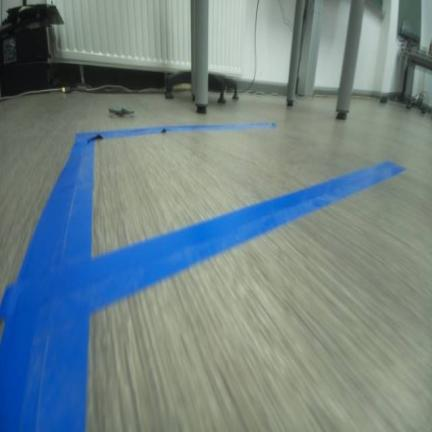place: (1, 161, 431, 431), (5, 122, 403, 317)
